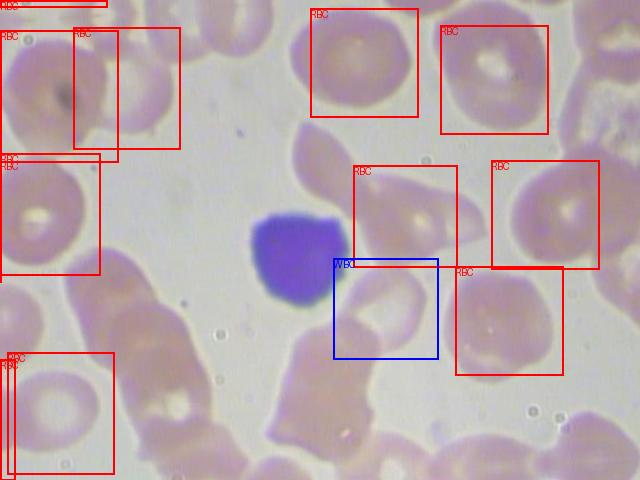RBC: (0, 30, 118, 162), (7, 352, 114, 474), (73, 27, 180, 149), (0, 153, 100, 275), (455, 266, 563, 375), (491, 160, 599, 269), (310, 8, 418, 117), (440, 25, 548, 134), (353, 165, 457, 267), (0, 359, 15, 480), (0, 0, 107, 7), (0, 160, 1, 282)
WBC: (333, 258, 438, 359)
